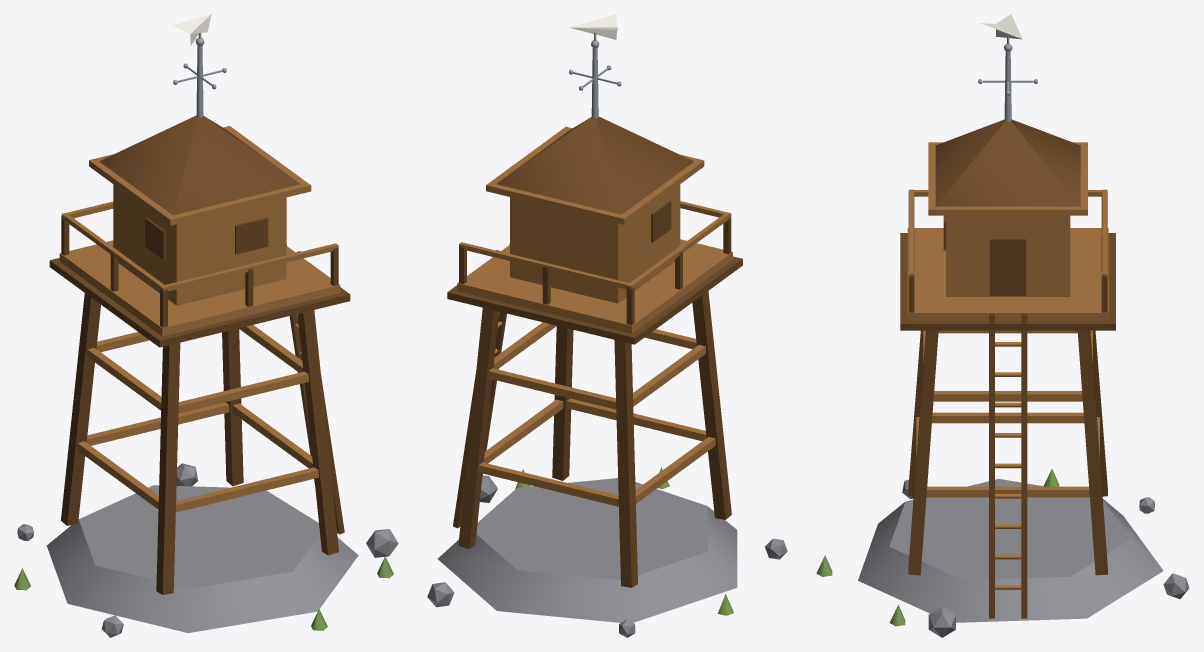
The model's file is watchtower.glb.
3 renders of one model, left to right at view 1: azimuth 30°, elevation 25°; view 2: azimuth 150°, elevation 25°; view 3: azimuth 270°, elevation 25°, orthographic. The views are drawn at different scales.
Parts seen in each view (by area): view 1: base_rock, cabin, roof, platform, leg_2, leg_0, leg_3, platform_rim, roof_trim, leg_1, brace_0_0, brace_1_0 (+12 smaller); view 2: base_rock, cabin, roof, platform, leg_3, leg_1, leg_2, platform_rim, roof_trim, leg_0, brace_0_2, brace_1_2 (+12 smaller); view 3: base_rock, roof, platform, cabin, ladder, platform_rim, leg_0, leg_1, roof_trim, door, brace_0_1, brace_0_3 (+5 smaller).
Boxes of the visible parts, box(x1,y1,x2,y2) form: base_rock: box(46, 485, 358, 632); cabin: box(113, 184, 286, 305); roof: box(99, 115, 300, 215); platform: box(59, 240, 340, 336); leg_2: box(156, 342, 180, 594); leg_0: box(297, 310, 338, 555); leg_3: box(61, 293, 100, 525); platform_rim: box(49, 258, 350, 347); roof_trim: box(89, 126, 311, 225); leg_1: box(222, 328, 243, 486); brace_0_0: box(176, 467, 318, 512); brace_1_0: box(178, 371, 309, 413); base_rock: box(438, 478, 737, 622); cabin: box(510, 184, 680, 303); roof: box(496, 116, 693, 214); platform: box(457, 239, 732, 333); leg_3: box(614, 340, 637, 587); leg_1: box(458, 307, 499, 548); leg_2: box(692, 291, 731, 519); platform_rim: box(447, 256, 742, 344); roof_trim: box(486, 126, 704, 224); leg_0: box(552, 326, 573, 480); brace_0_2: box(478, 462, 618, 506); brace_1_2: box(488, 368, 616, 409); base_rock: box(858, 479, 1163, 622); roof: box(935, 119, 1080, 206); platform: box(907, 228, 1108, 320); cabin: box(946, 215, 1070, 296); ladder: box(989, 313, 1027, 618); platform_rim: box(900, 233, 1115, 330); leg_0: box(908, 330, 938, 575); leg_1: box(1077, 330, 1107, 575); roof_trim: box(928, 142, 1087, 215); door: box(990, 238, 1026, 295); brace_0_1: box(926, 486, 1089, 497); brace_0_3: box(932, 412, 1084, 423).
Bounding box in the file's own units: 5 × 8.11 × 5.1.
